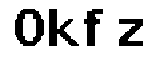0: (11, 6, 43, 50)
f: (81, 6, 105, 50)
k: (47, 6, 80, 49)
z: (110, 17, 147, 54)
